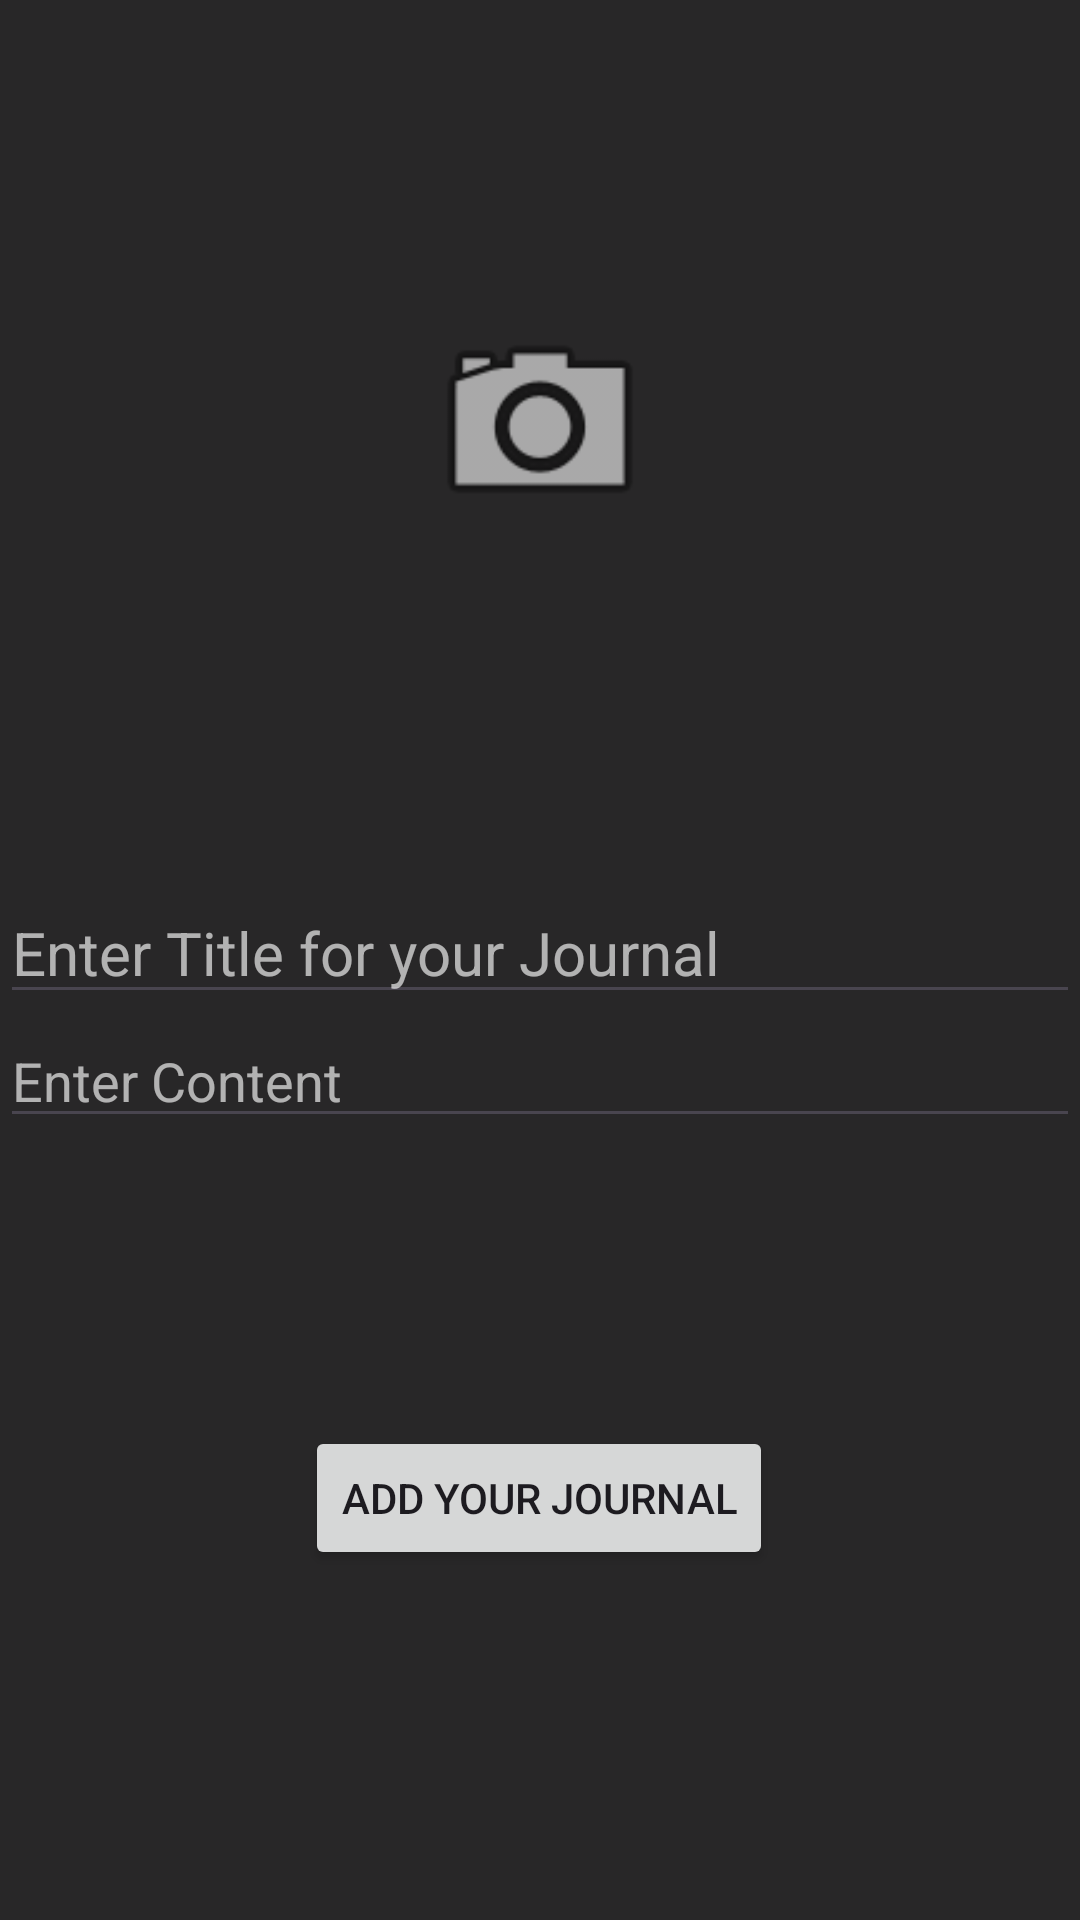

Icons on this 1080 × 1920 Android screen, each with its box as (x1, y1, x2, y2):
camera: (455, 353, 625, 485)
